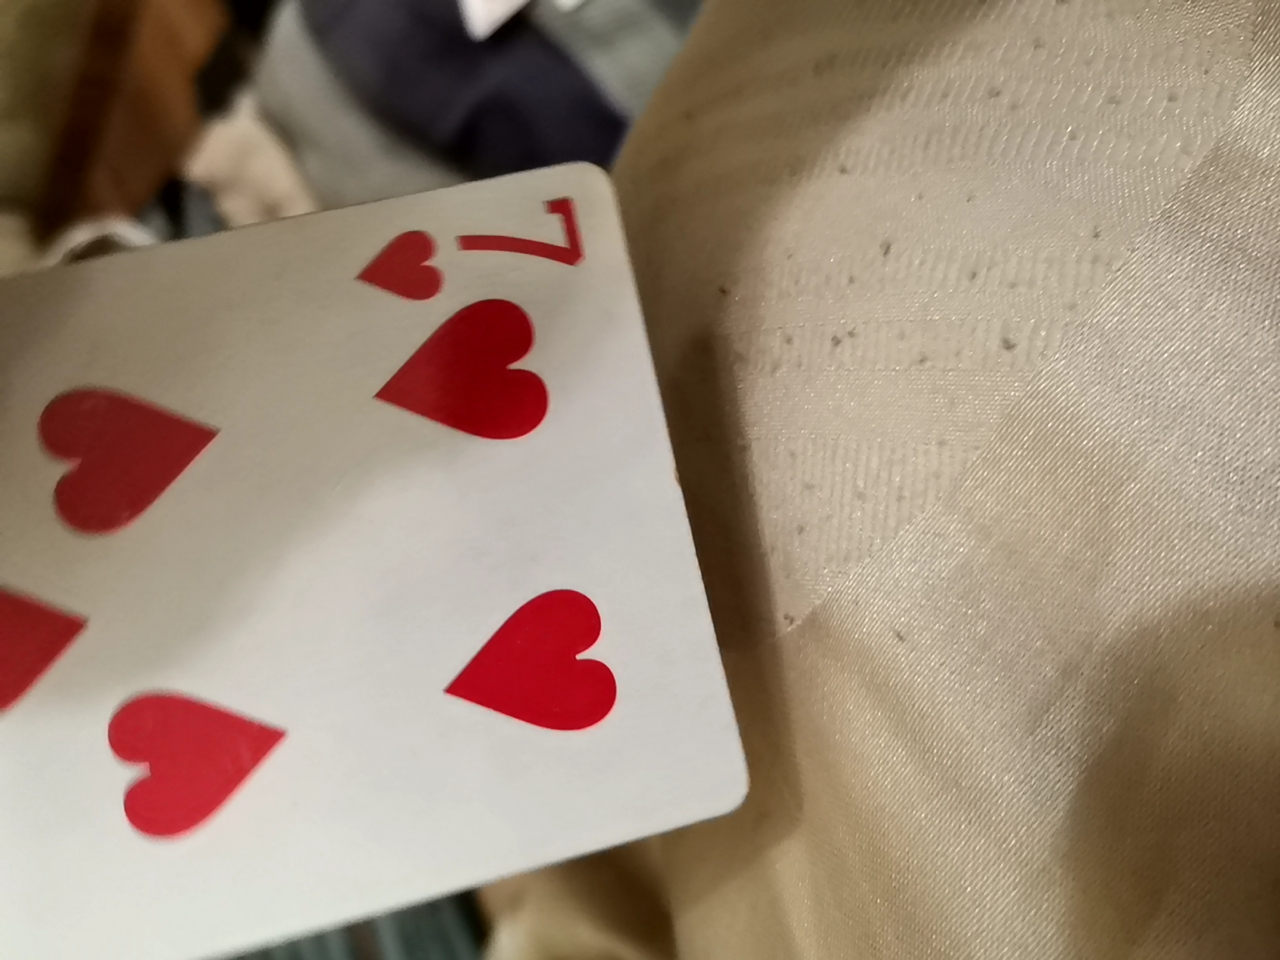hx 7: (6, 151, 757, 958)
